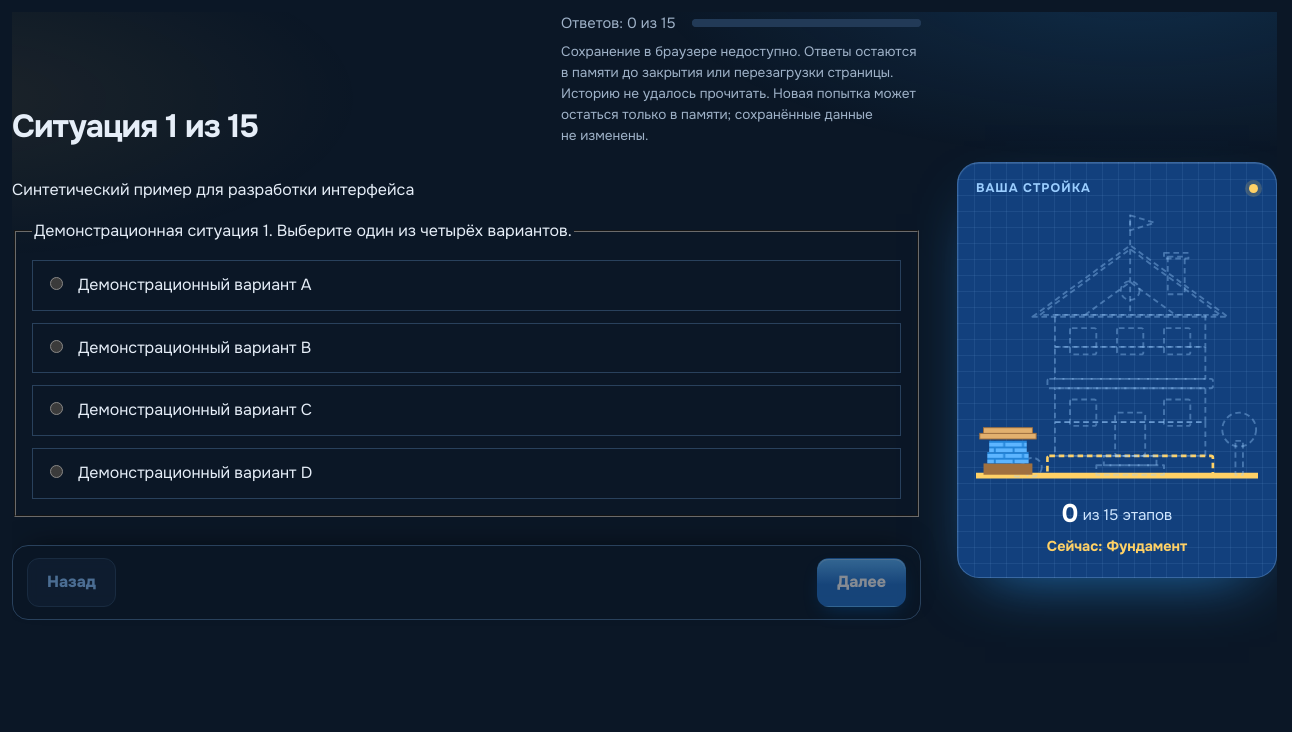
Scenario: контроллер вопроса A (синтетический каталог, без формулы C) › показывает явное предупреждение о работе в памяти
Expected: the message shows "Ответы остаются в памяти", [561,43,916,81]
Step 1. Click the radio button labelled "Демонстрационный вариант A" → (56, 283), box [50,277,63,290]
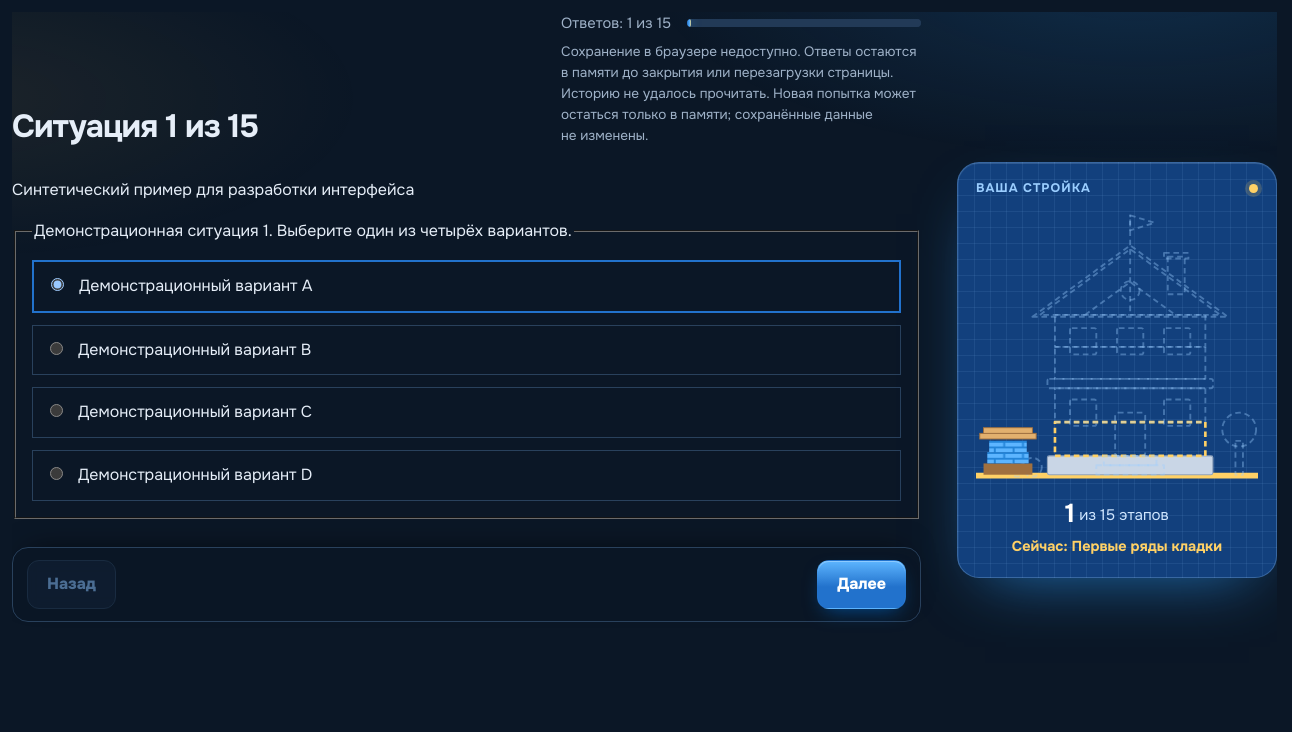
Expected: the button "Далее" is enabled, [817,560,906,609]
